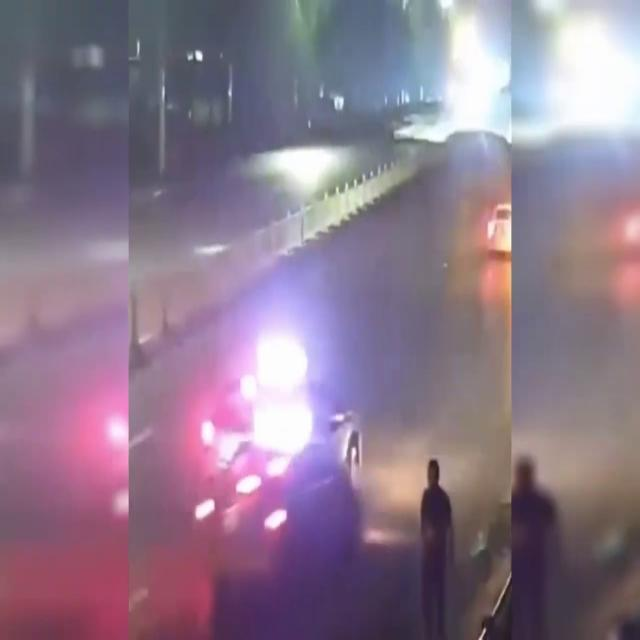accident: (194, 370, 366, 570)
